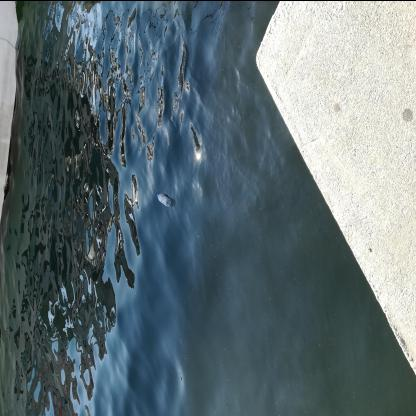plastik: (157, 192, 171, 206)
